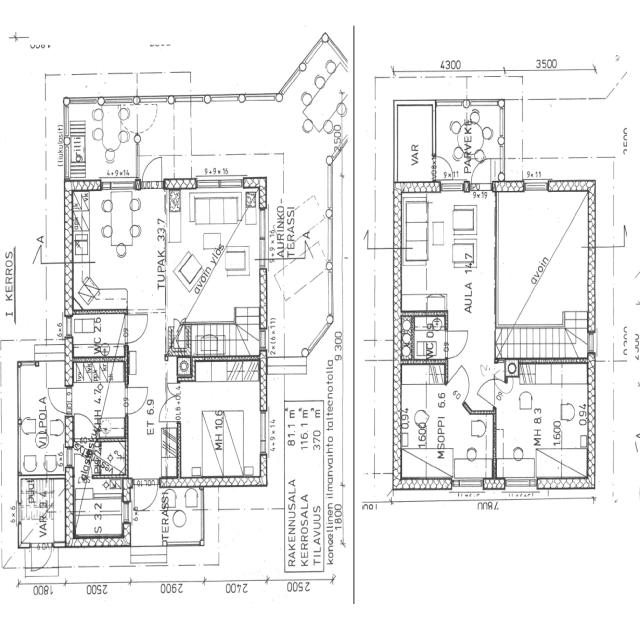door: (284, 400, 324, 468), (139, 152, 165, 189), (124, 382, 150, 417), (124, 311, 150, 346), (134, 479, 160, 514), (468, 154, 493, 189), (444, 327, 469, 360), (136, 102, 160, 134), (30, 543, 54, 572), (46, 386, 70, 414), (433, 154, 458, 180), (74, 412, 97, 438), (476, 377, 495, 406), (163, 393, 181, 422), (451, 364, 471, 389), (164, 381, 180, 412), (500, 377, 516, 396)
window: (192, 174, 242, 193), (255, 204, 268, 268), (100, 176, 138, 194), (325, 266, 336, 320), (242, 89, 279, 105), (429, 105, 440, 157), (302, 331, 324, 357), (258, 408, 270, 454), (208, 91, 242, 107), (503, 476, 537, 490), (522, 178, 550, 195), (452, 477, 484, 491), (308, 33, 327, 56), (438, 180, 466, 193), (61, 103, 70, 141), (260, 316, 269, 348), (64, 313, 74, 341), (587, 329, 597, 356), (168, 539, 199, 547), (122, 500, 130, 524), (610, 370, 616, 391), (0, 430, 4, 451)
zone: (496, 188, 590, 360), (168, 188, 261, 357), (397, 362, 494, 483), (494, 362, 590, 482), (400, 193, 494, 315), (73, 188, 168, 308), (178, 354, 265, 482), (17, 361, 68, 476), (67, 101, 139, 182), (434, 104, 503, 182), (71, 358, 125, 440), (395, 102, 435, 184), (18, 476, 65, 545), (73, 479, 126, 540), (71, 311, 127, 359), (73, 439, 127, 480), (401, 315, 447, 362)
